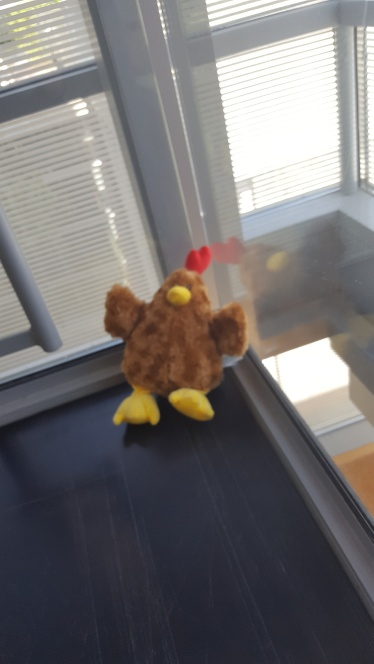chicken_front: (104, 245, 248, 426)
